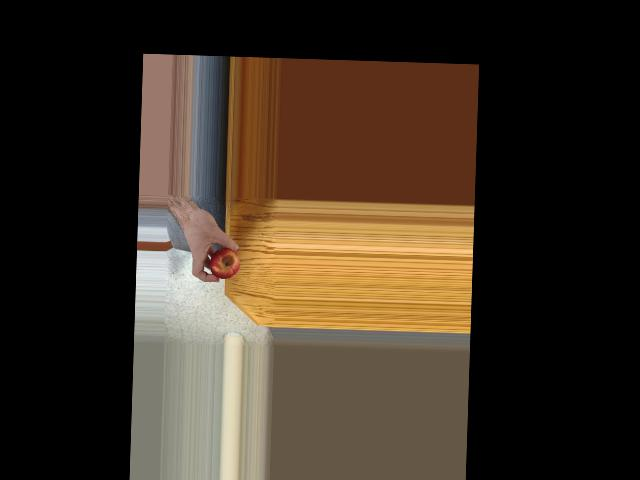apple: (211, 246, 240, 279)
